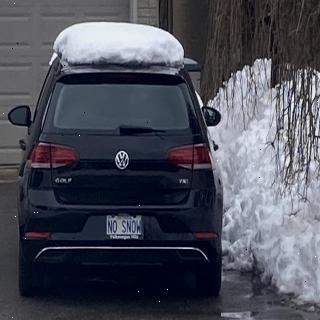license: (105, 215, 145, 241)
